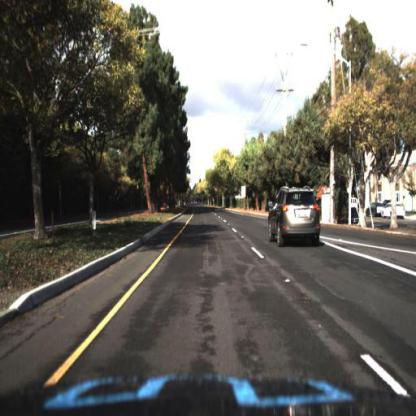car: (268, 185, 322, 249), (381, 193, 409, 218), (383, 202, 406, 220)
